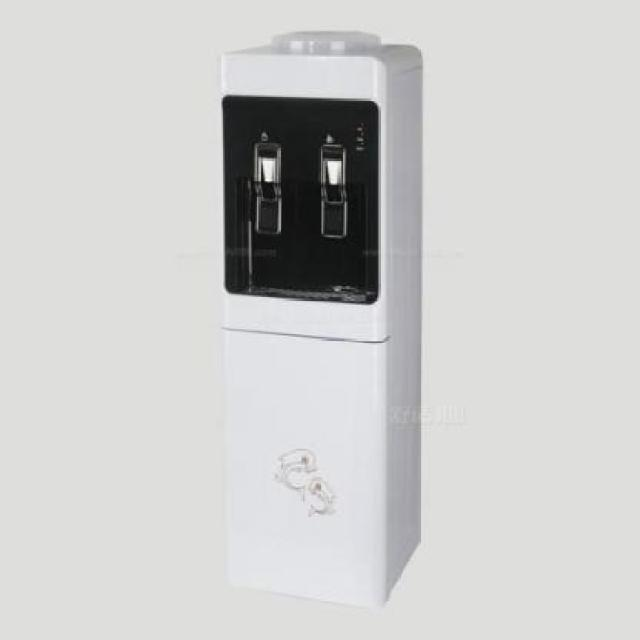cooler: (214, 28, 422, 612)
